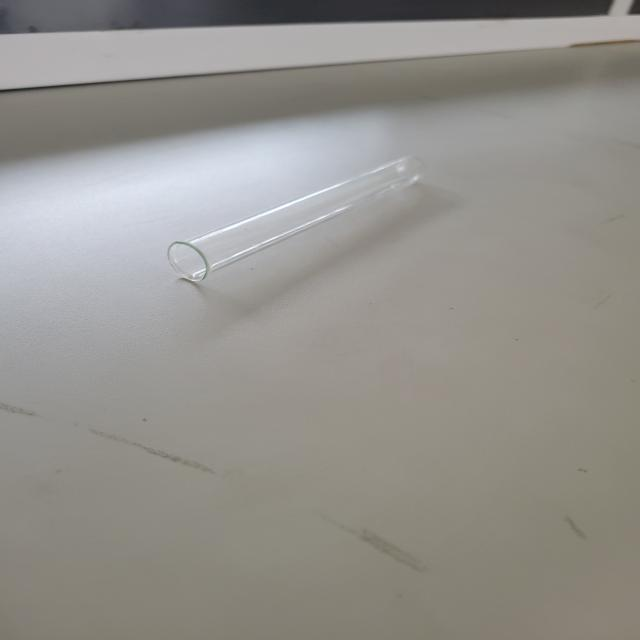Test_Tube: (90, 129, 447, 311)
